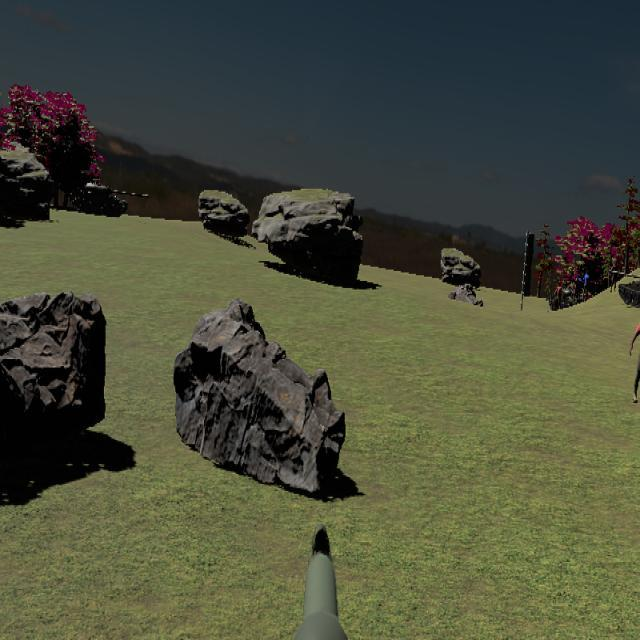Tank: (71, 181, 150, 217), (610, 266, 640, 309)
